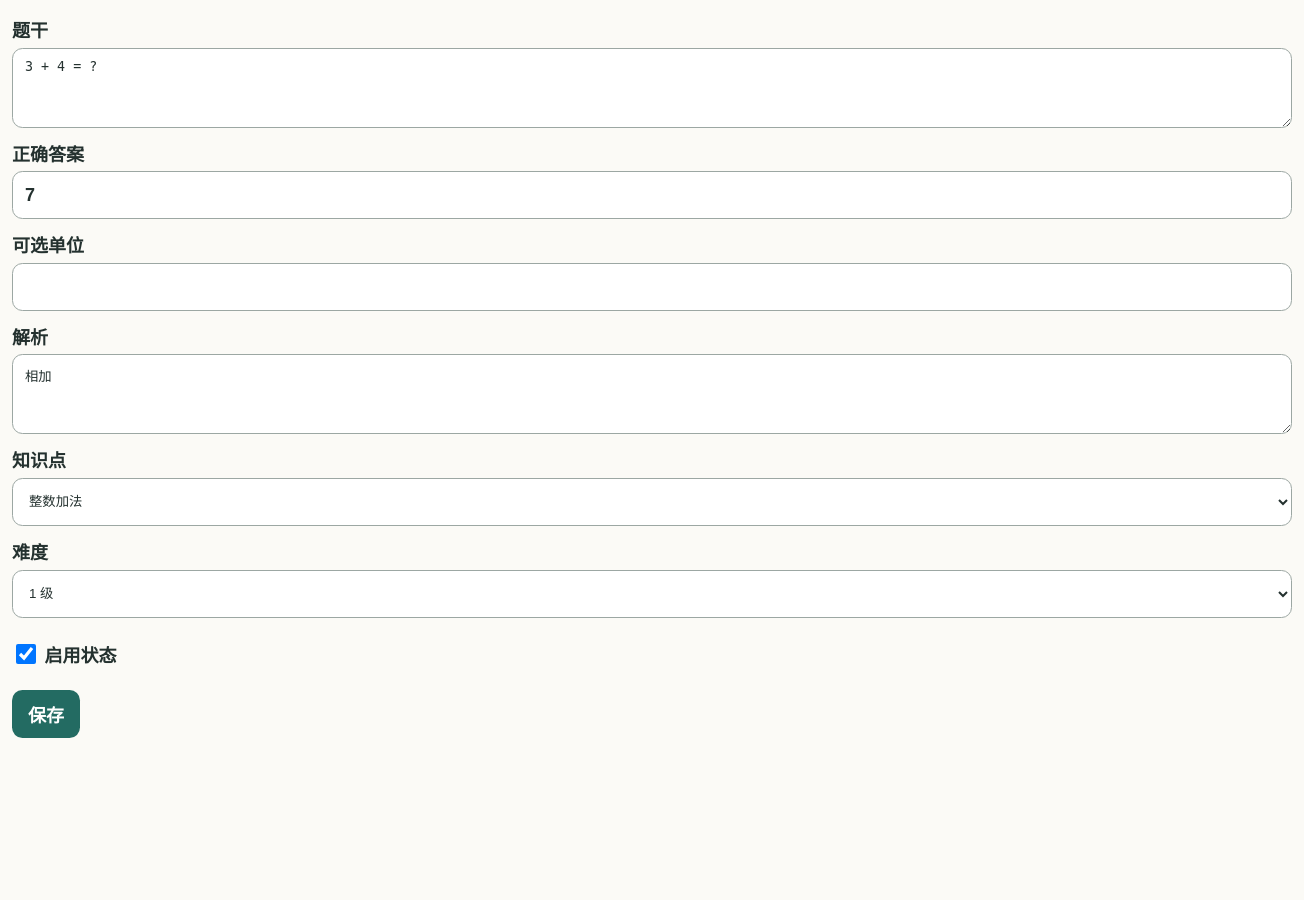
Test: maps server reasons to the affected stem, answer, and unit fields
Click the button "保存" at (46, 714), box [12,690,80,738]
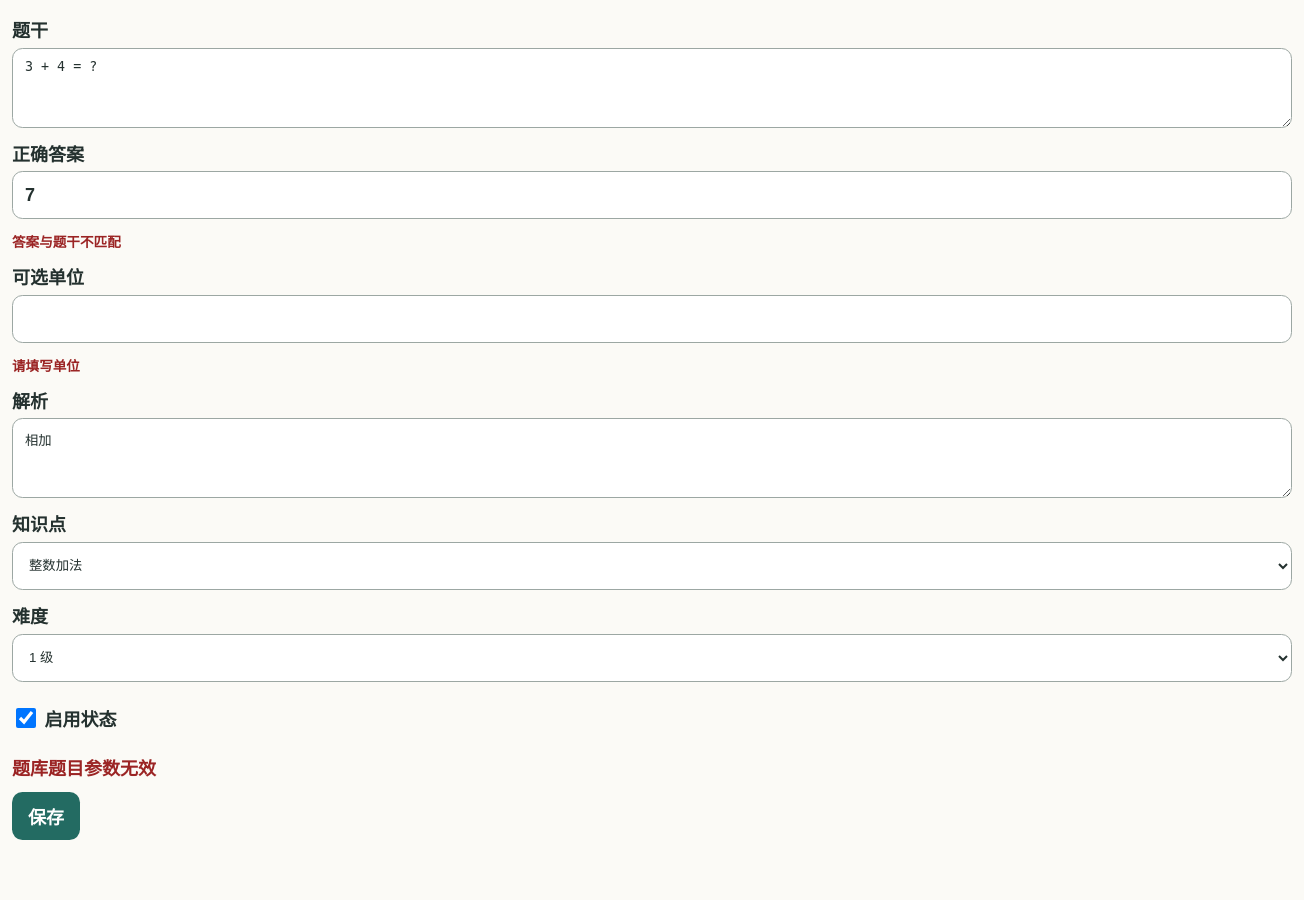
Expected: the text "答案与题干不匹配" is shown, [12,235,121,250]
Expected: the text "请填写单位" is shown, [12,359,80,374]
